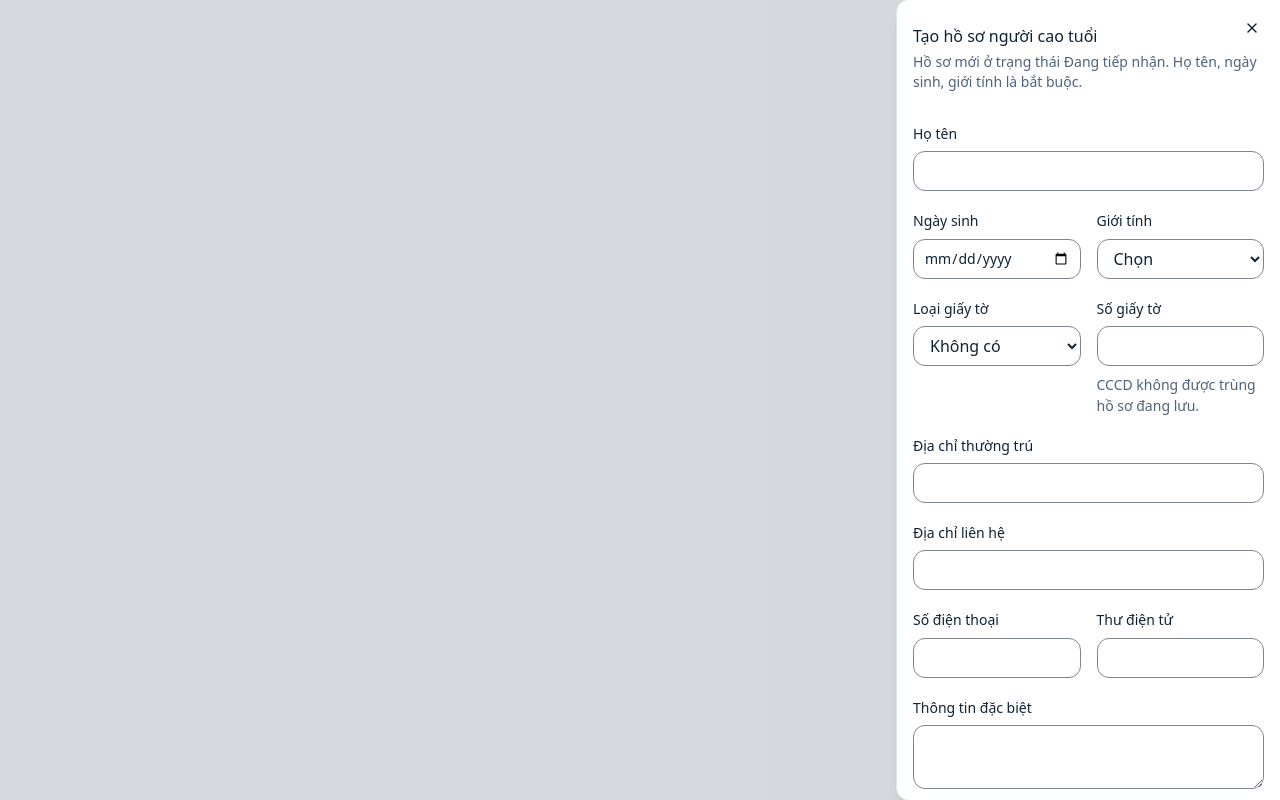
Scenario: CreateResident › gửi thông tin kèm Idempotency-Key và hiện mã hồ sơ đã cấp
Type "Nguyễn Văn An" into the field labelled "Họ tên" at (1088, 171), box [913, 151, 1264, 191]
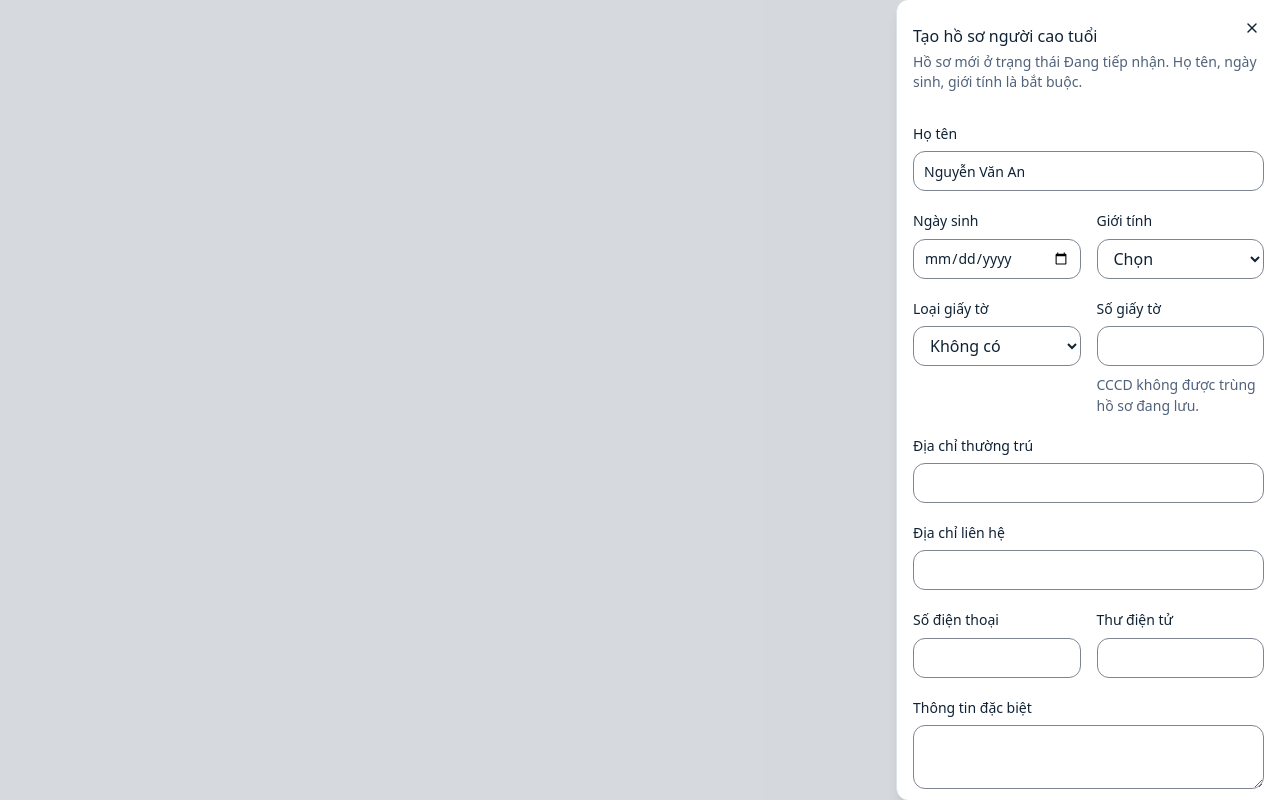
Type "1948-03-14" into the date field labelled "Ngày sinh" at (997, 258), box [913, 238, 1080, 278]
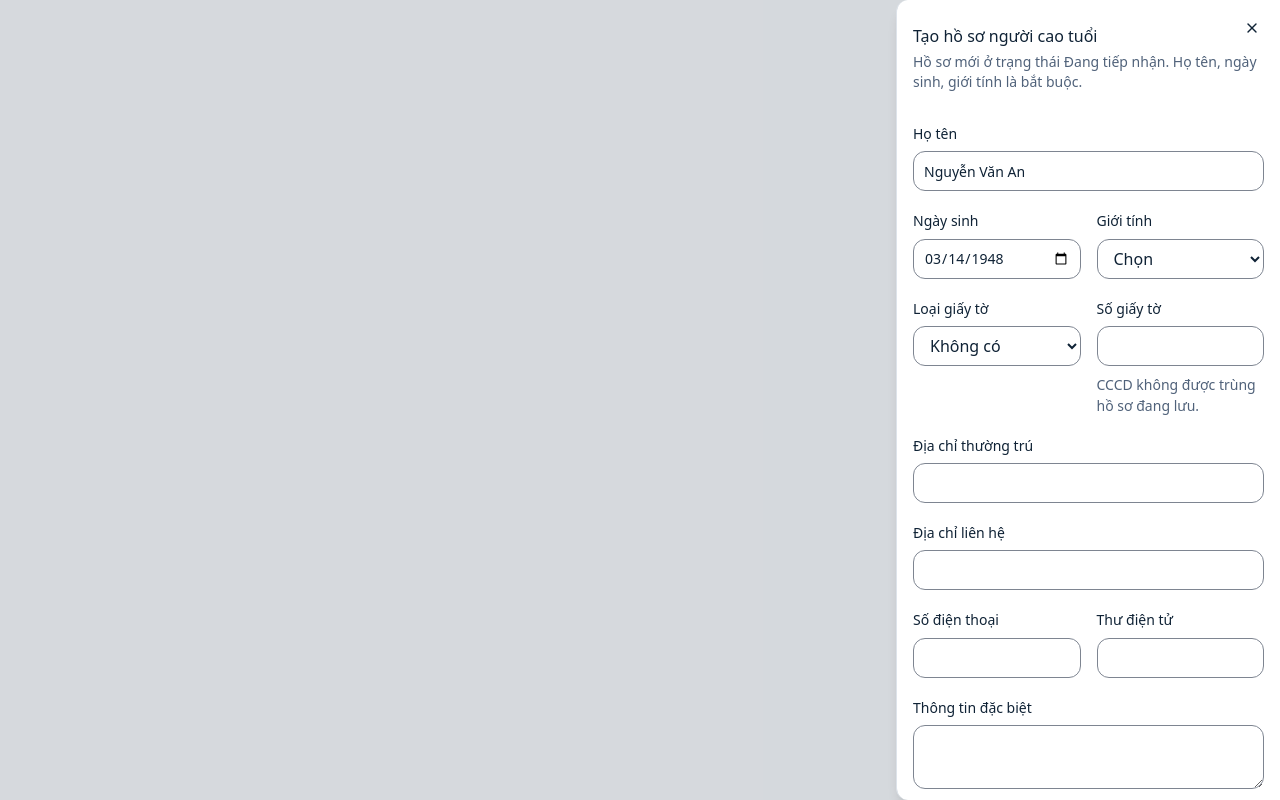
Select "Nam" in the dropdown labelled "Giới tính" at (1180, 258), box [1096, 238, 1264, 278]
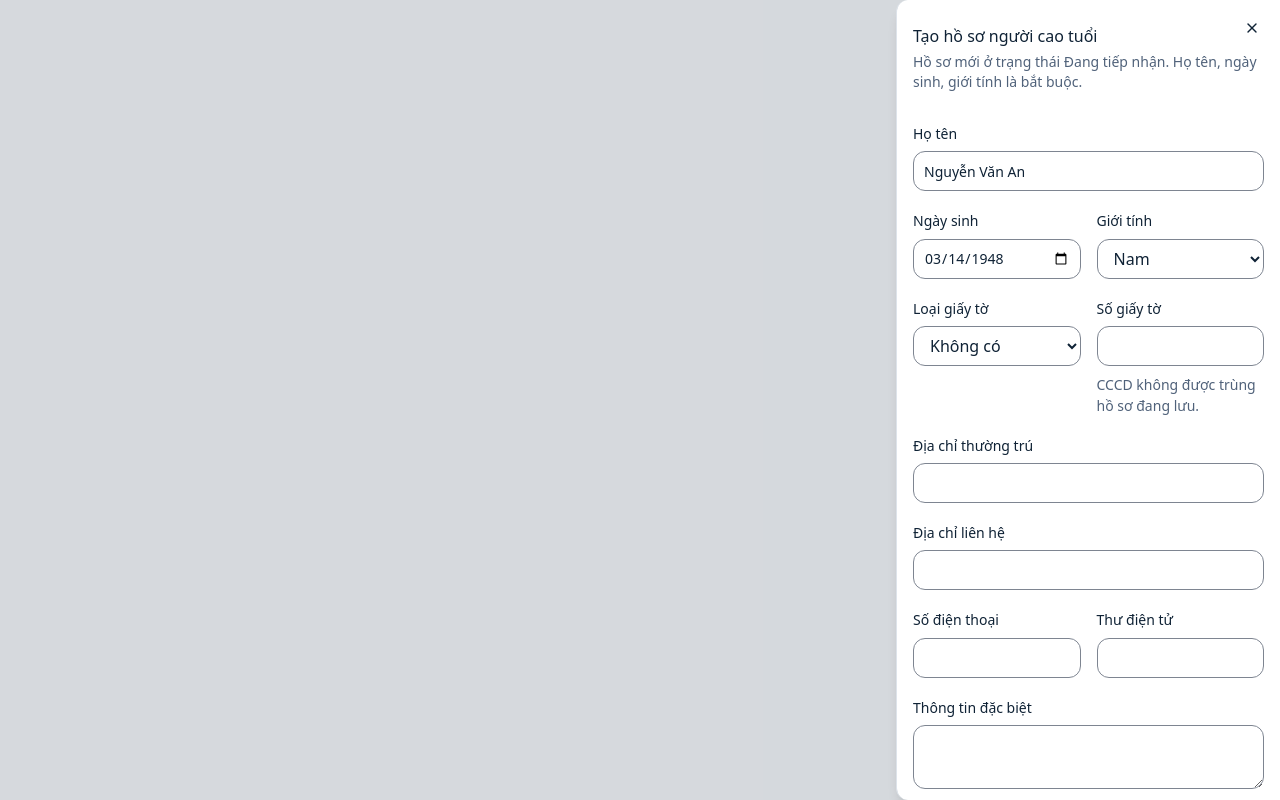
Select "CCCD" in the dropdown labelled "Loại giấy tờ" at (997, 346), box [913, 326, 1080, 366]
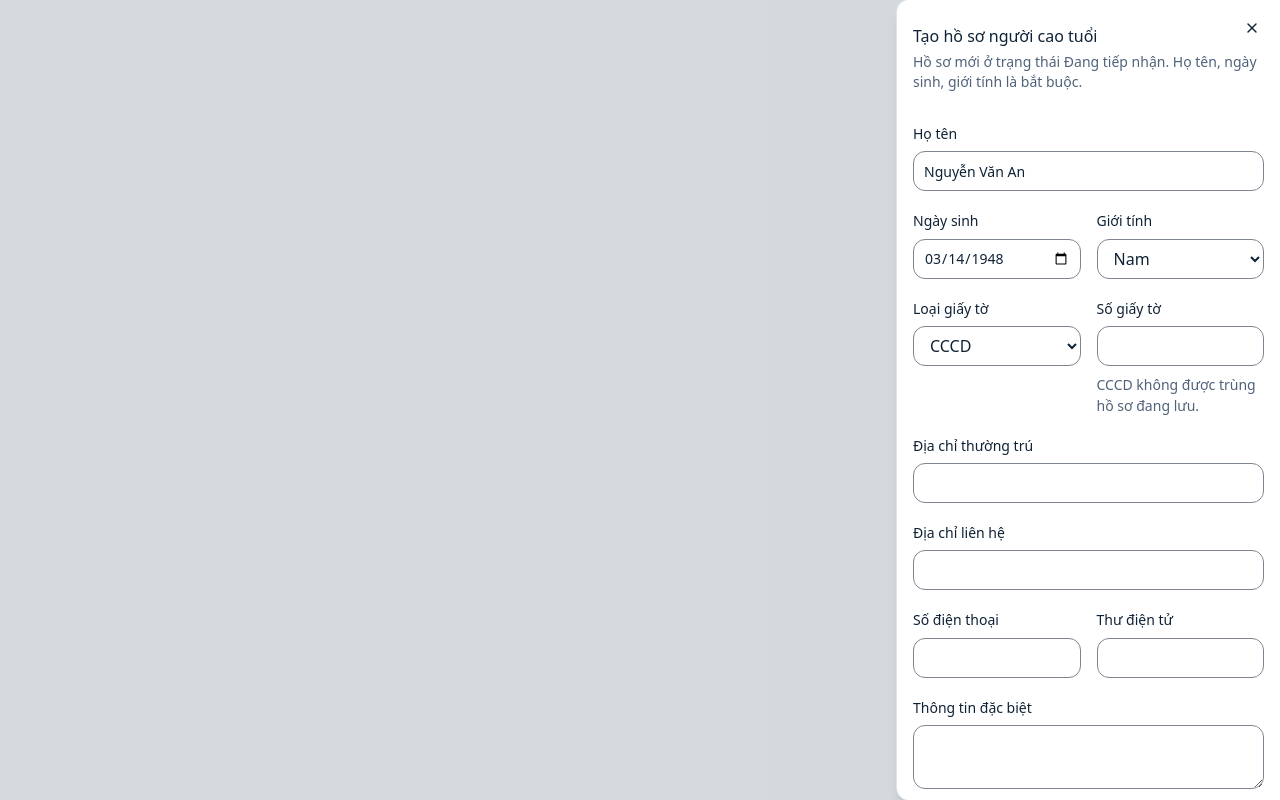
Type "012345678901" into the field labelled "Số giấy tờ" at (1180, 346), box [1096, 326, 1264, 366]
(page scrolled)
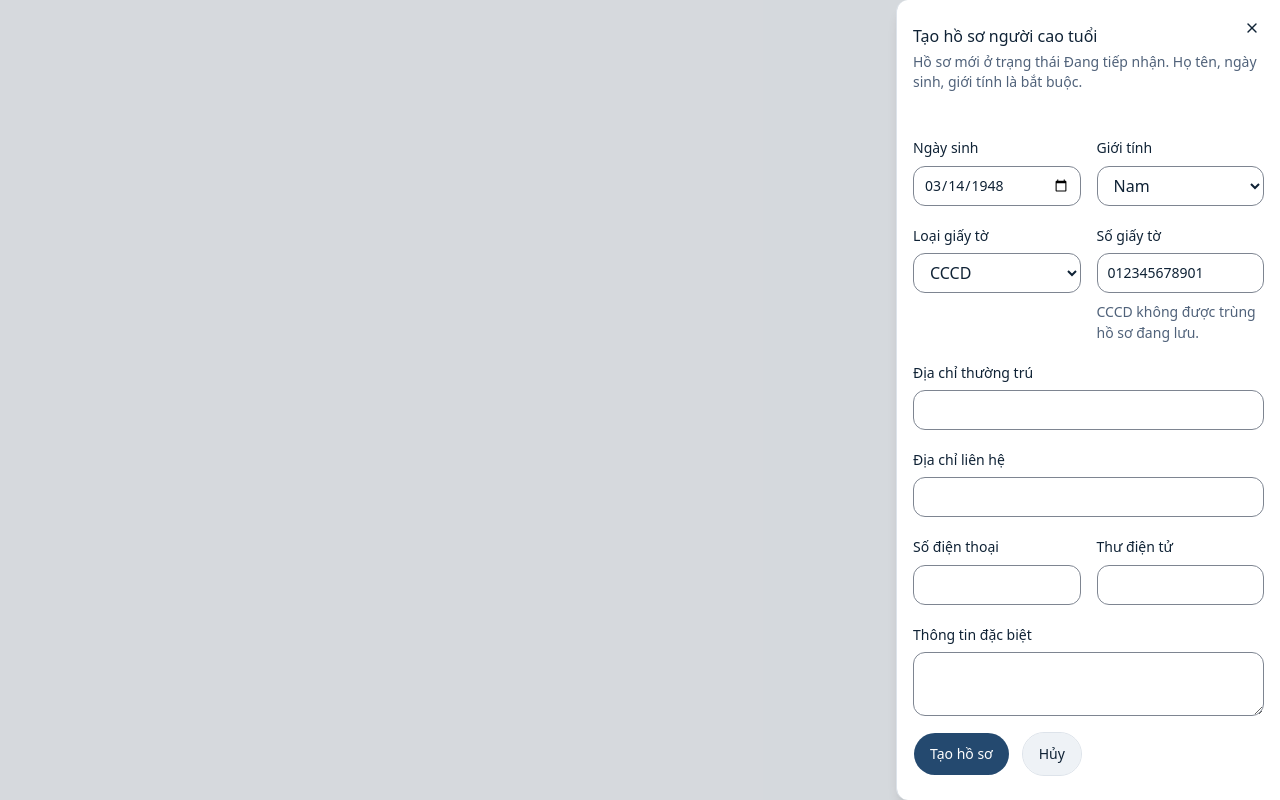
Click the button "Tạo hồ sơ" at (961, 754), box [913, 732, 1010, 776]
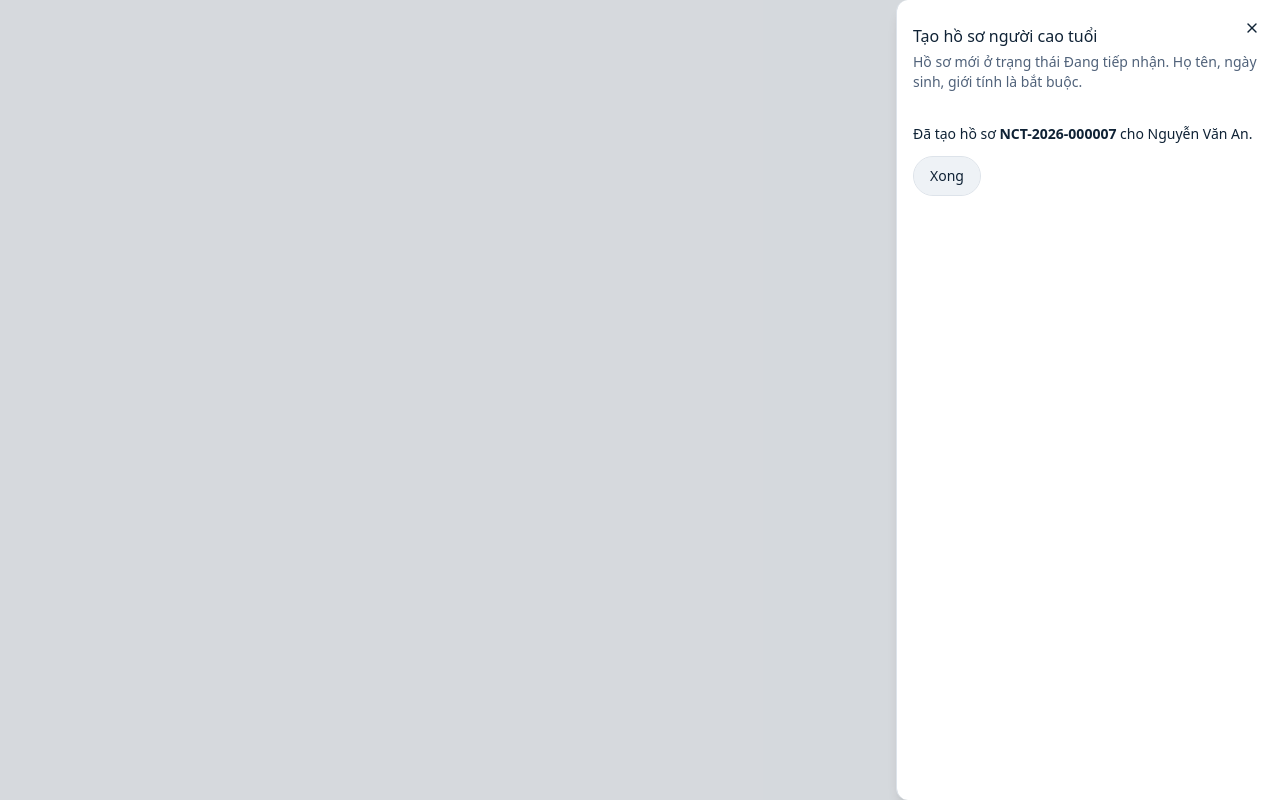
Expected: the text "NCT-2026-000007" is shown, [1000, 124, 1116, 143]
